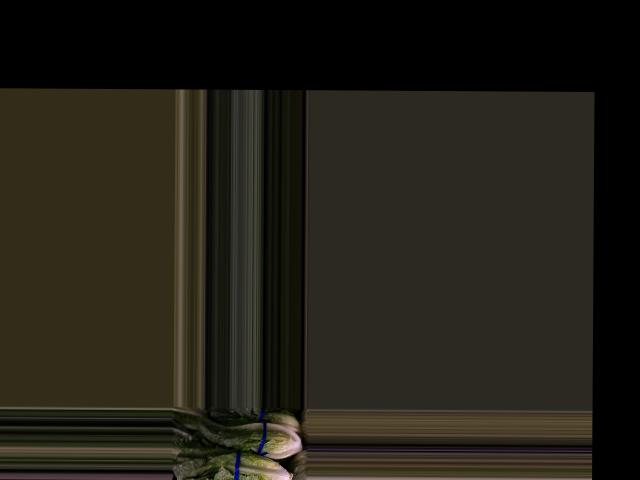lettuce: (195, 413, 304, 459)
